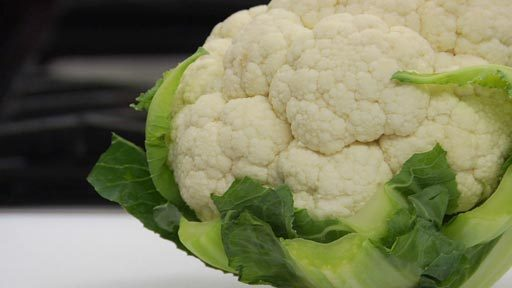cauliflower: (85, 0, 511, 287)
